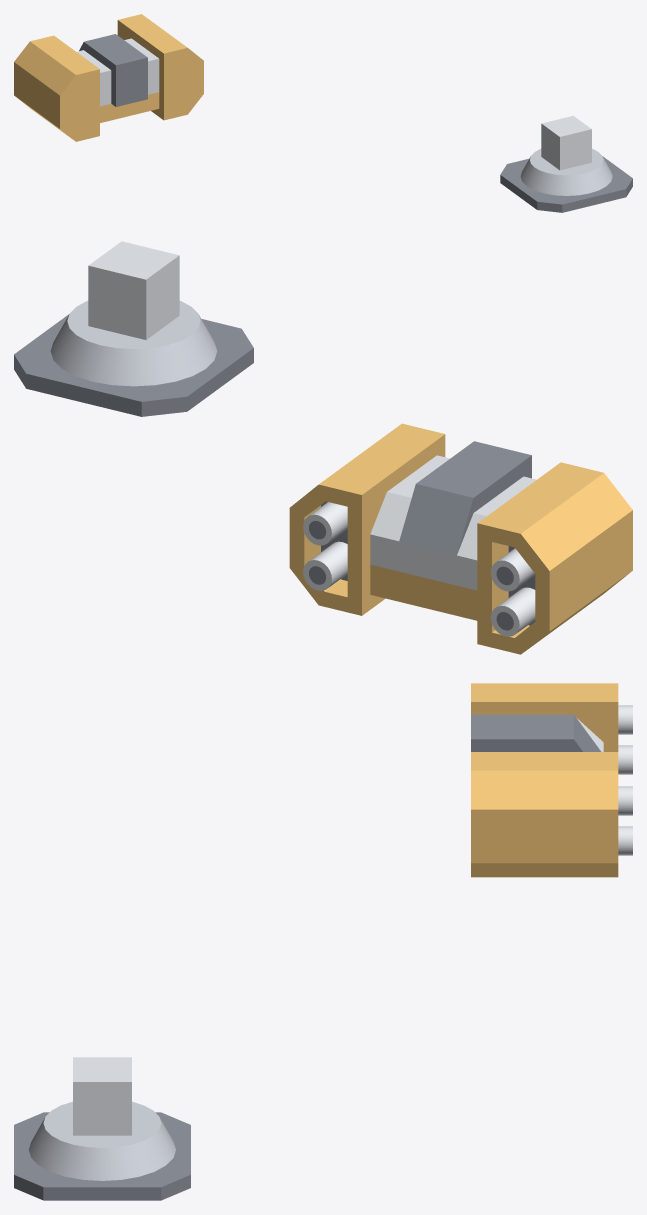
File: turret_double.glb
3 renders of one model, top to bottom at view 1: azimuth 30°, elevation 25°; view 2: azimuth 150°, elevation 25°; view 3: azimuth 270°, elevation 25°, orthographic. The views are drawn at different scales.
Visible parts, largest first — view 1: turret, turret_double; view 2: turret, turret_double; view 3: turret, turret_double.
Boxes of the visible parts, box(x1,y1,x2,y2) form: turret: box(14, 14, 203, 141); turret_double: box(500, 115, 632, 212); turret: box(289, 423, 632, 654); turret_double: box(14, 241, 253, 416); turret: box(471, 683, 632, 877); turret_double: box(14, 1057, 190, 1200).
Bounding box in the file's own units: 2.75 × 0.7 × 2.1.
